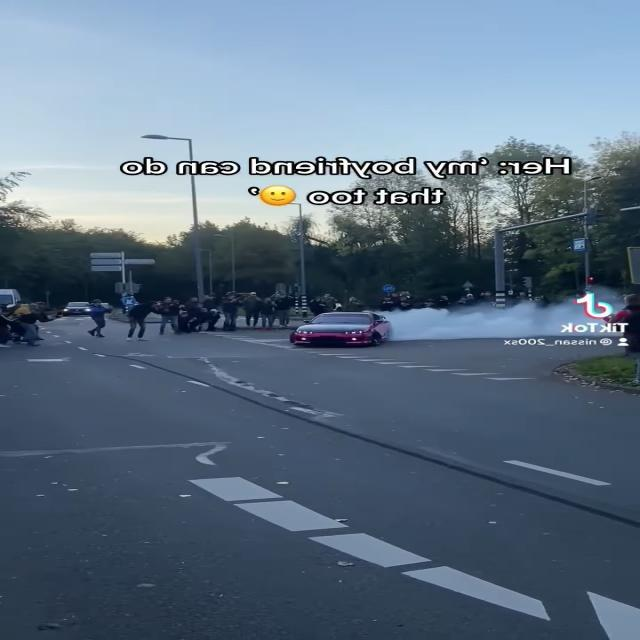car: (290, 310, 387, 354)
